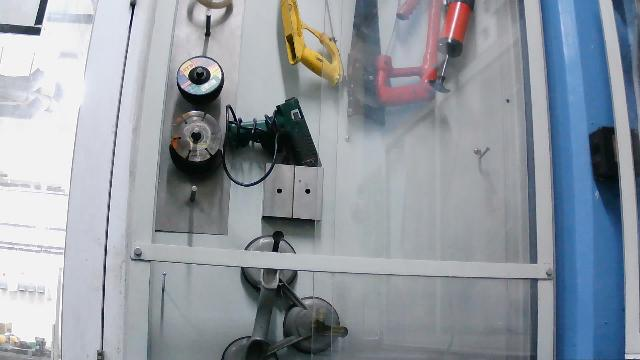gun_lem: (221, 95, 325, 188)
